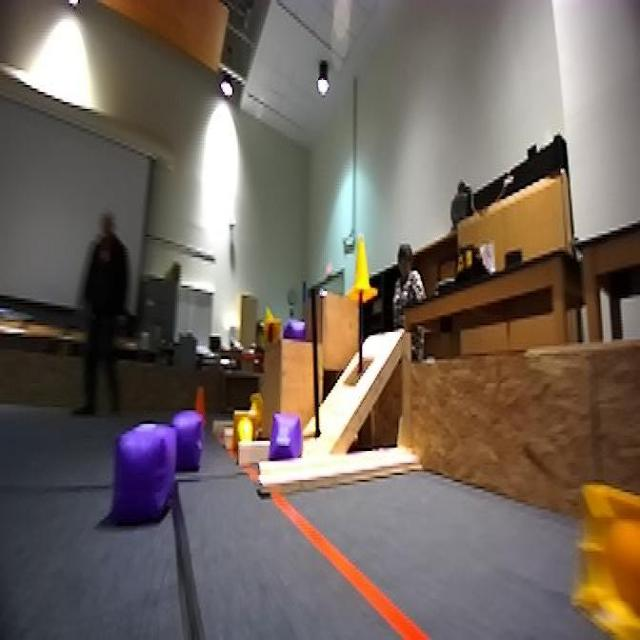frc_cone: (592, 408, 639, 640), (348, 240, 372, 298), (233, 410, 259, 439)
frc_cube: (111, 426, 179, 514), (168, 408, 206, 475), (267, 410, 302, 458), (274, 310, 316, 345)
